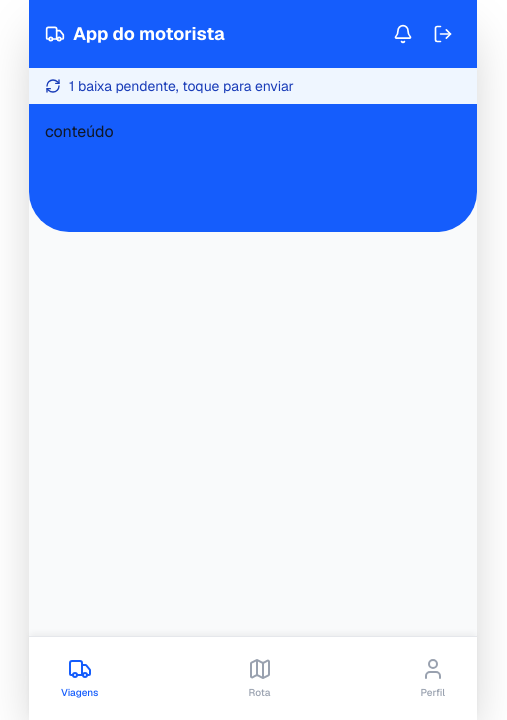
it: casca do motorista: reenvio com o provedor da sessão sem usuário › o toque na faixa azul reenvia em nome de quem o servidor confirmou
Step 1. Click the button "1 baixa pendente, toque para enviar" → {"x": 253, "y": 86}, box [29,68,477,104]
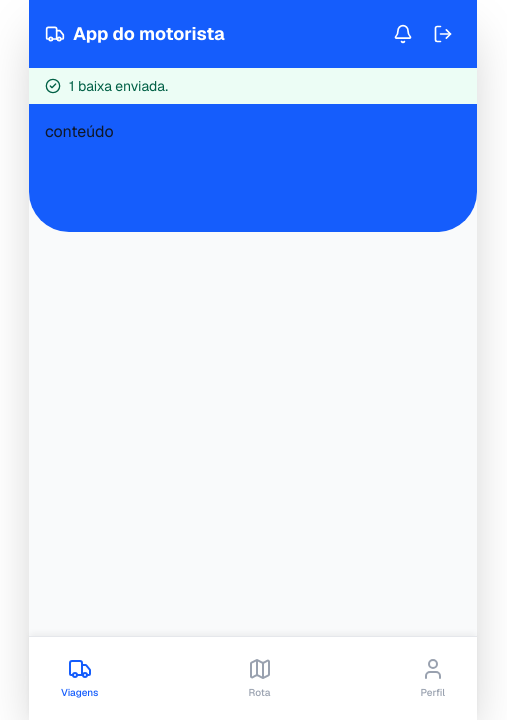
Now the text "1 baixa enviada." is shown, box [69,76,168,96]
